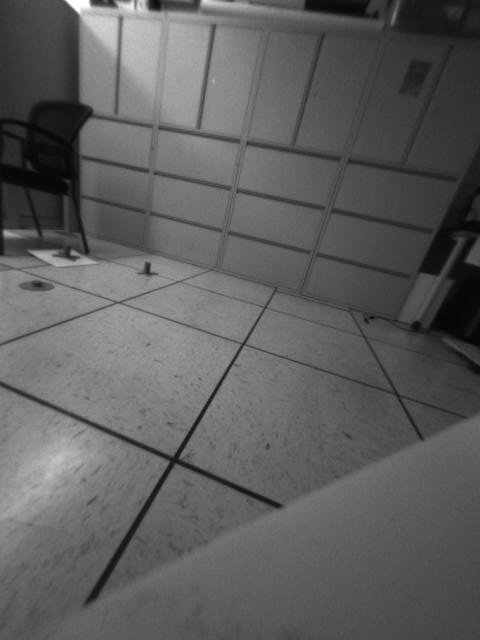X: (131, 259, 162, 279), (53, 242, 79, 264)
